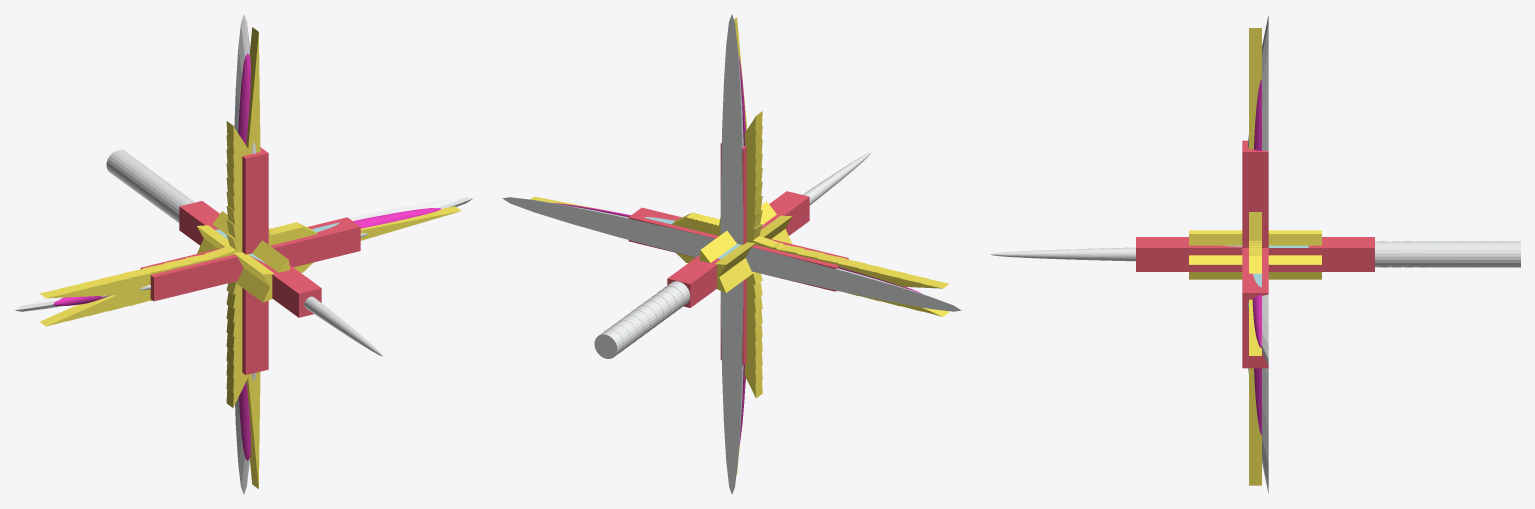
File: Lillian.gltf
3 views of the same model, side by side, from view 1: azimuth 30°, elevation 25°; view 2: azimuth 150°, elevation 25°; view 3: azimuth 270°, elevation 25° (orthographic).
Parts seen in each view (by area): view 1: group_0_16768282, group_0_15277357, group_0_14541540, group_0_14093196; view 2: group_0_14541540, group_0_16768282, group_0_15277357, group_0_14093196; view 3: group_0_15277357, group_0_14541540, group_0_16768282, group_0_14093196.
Boxes of the visible parts, <box> form: group_0_16768282: <box>39,27,461,488</box>; group_0_15277357: <box>140,147,360,374</box>; group_0_14541540: <box>14,14,473,494</box>; group_0_14093196: <box>53,53,441,460</box>; group_0_14541540: <box>502,14,961,494</box>; group_0_16768282: <box>530,17,949,474</box>; group_0_15277357: <box>628,143,848,365</box>; group_0_14093196: <box>553,54,922,444</box>; group_0_15277357: <box>1136,140,1374,368</box>; group_0_14541540: <box>990,15,1520,493</box>; group_0_16768282: <box>1189,28,1321,485</box>; group_0_14093196: <box>1252,79,1261,434</box>.
Bounding box in the file's own units: 400 × 400 × 400.
